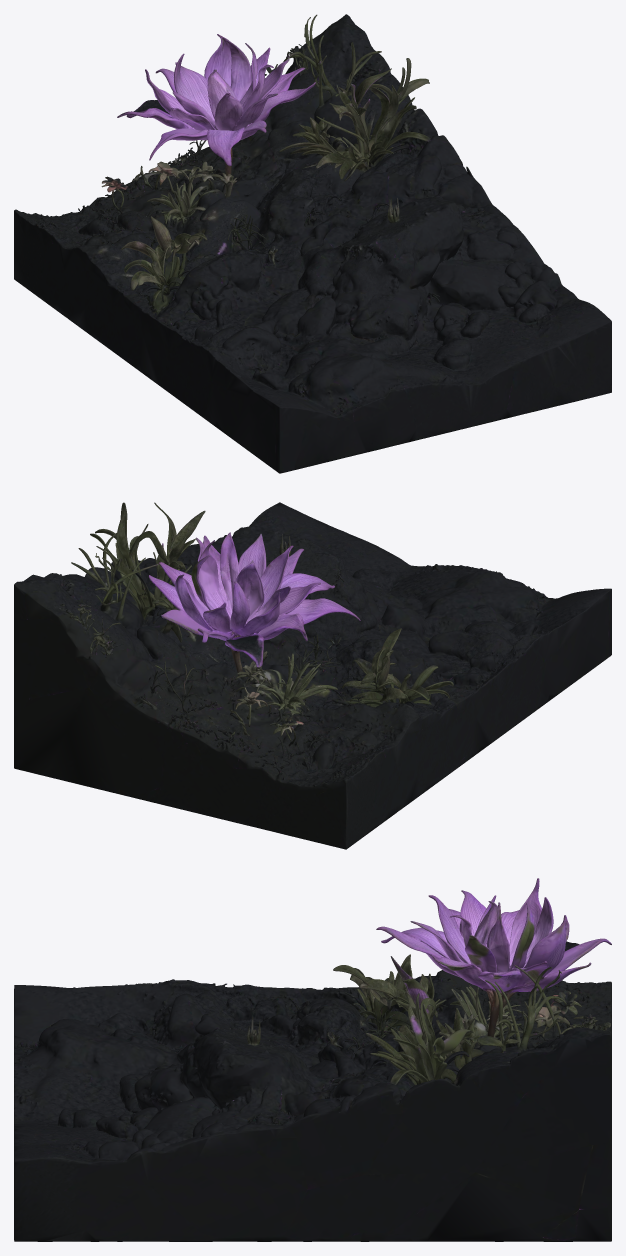
Rendered from moonlit-lotus.glb.
The picture shows the model from 3 angles, top to bottom: view 1: azimuth 30°, elevation 25°; view 2: azimuth 150°, elevation 25°; view 3: azimuth 270°, elevation 25°; orthographic projection. The views are drawn at different scales.
Visible parts, largest first — view 1: mesh_node; view 2: mesh_node; view 3: mesh_node.
Boxes of the visible parts, x1,y1,x2,y2 form: mesh_node: (14, 14, 611, 473); mesh_node: (14, 502, 611, 849); mesh_node: (14, 878, 611, 1241).
Size of the model in its own units: 1.39 by 0.9036 by 1.9.
Materials: 1 (1 with a texture image).
